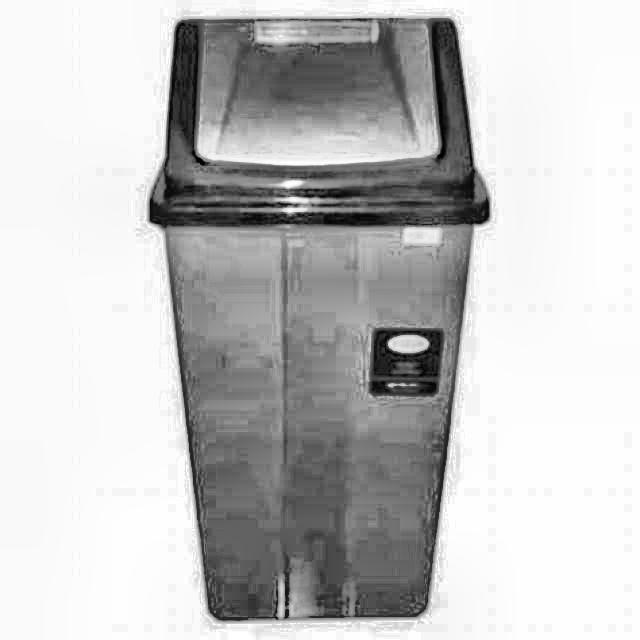Dustbin: (91, 5, 573, 625)
